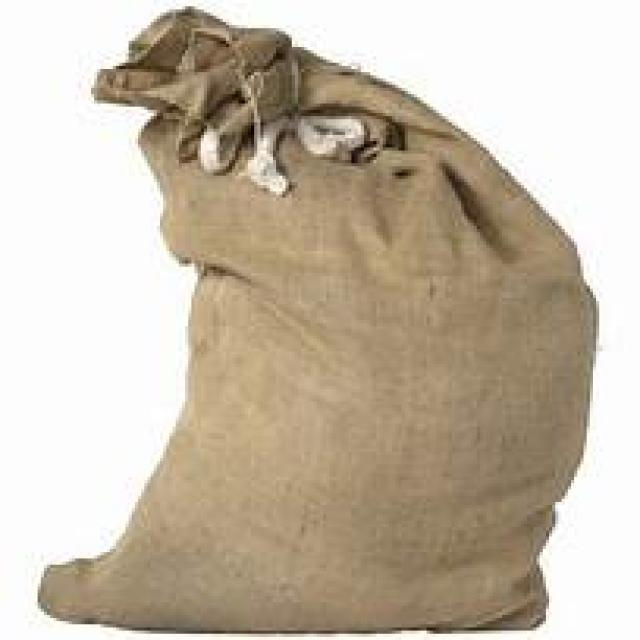gunny_bag: (30, 3, 604, 634)
